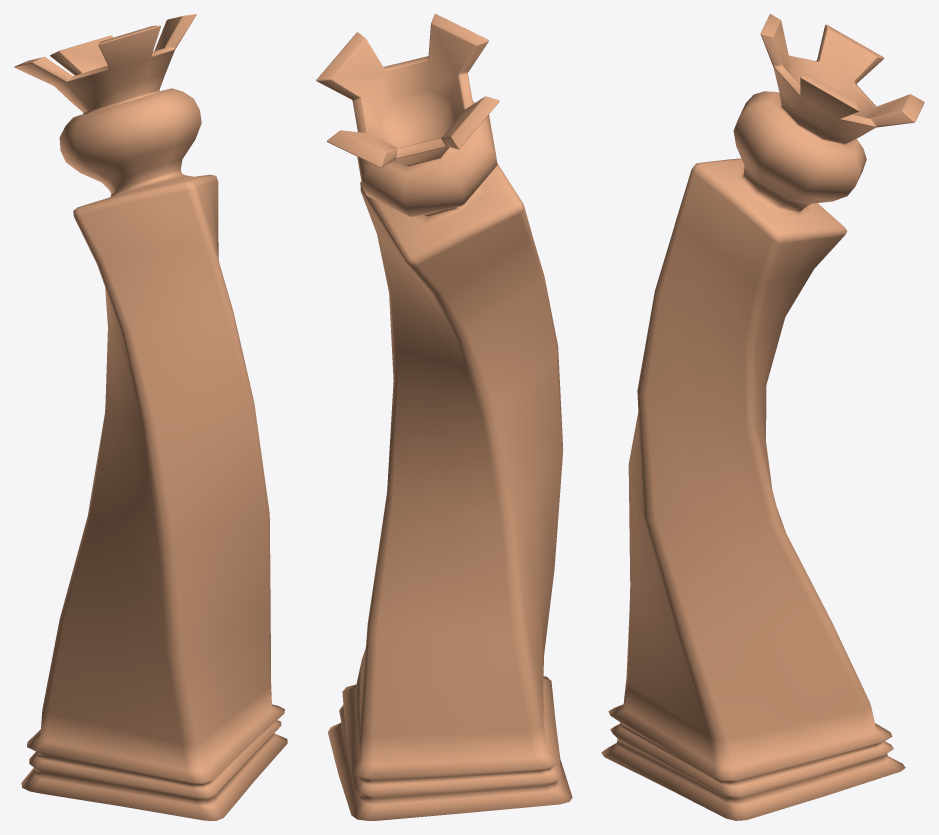
The model's file is Reina.fbx.
3 renders of one model, left to right at view 1: azimuth 30°, elevation 25°; view 2: azimuth 150°, elevation 25°; view 3: azimuth 270°, elevation 25°, orthographic. The views are drawn at different scales.
Visible parts, largest first — view 1: Reina.002; view 2: Reina.002; view 3: Reina.002.
Boxes of the visible parts, bbox=[...] form: Reina.002: bbox=[14, 14, 287, 820]; Reina.002: bbox=[316, 14, 572, 820]; Reina.002: bbox=[601, 14, 924, 820].
Size of the model in its own units: 88.13 by 251 by 99.22.
